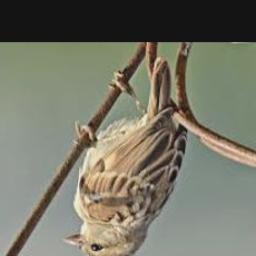Sparrow: (62, 57, 187, 256)
